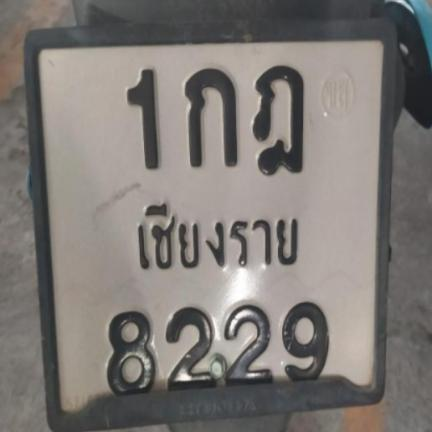1: (117, 56, 169, 169)
2: (221, 300, 279, 385), (163, 302, 218, 391)
8: (94, 307, 158, 398)
9: (285, 300, 331, 381)
A01: (177, 58, 240, 172)
A14: (248, 58, 315, 174)
CRI: (116, 193, 313, 275)
